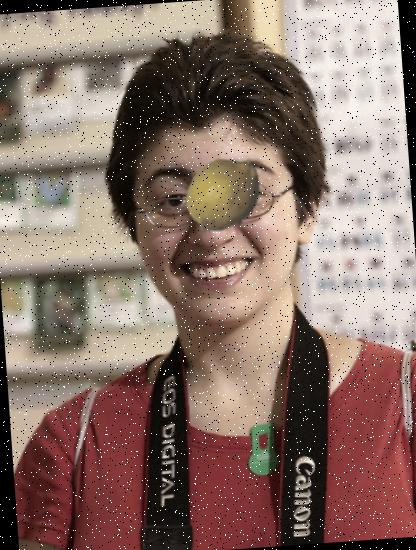Lemon: (180, 148, 270, 238)
